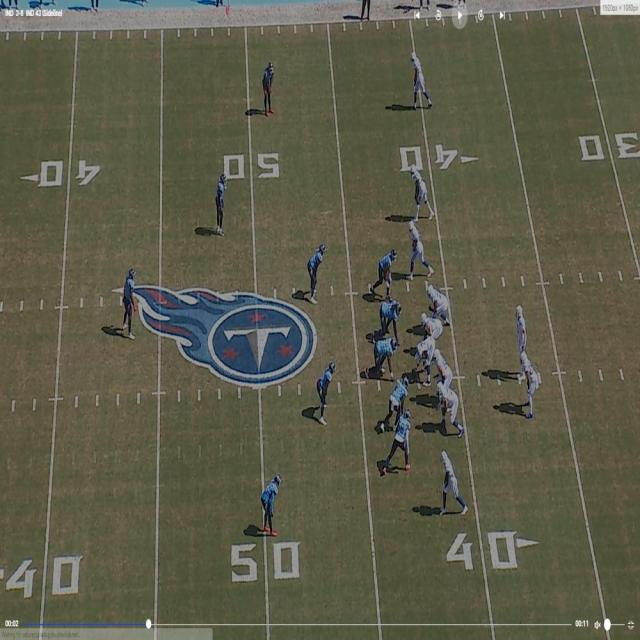center: (412, 343, 428, 378)
db: (264, 474, 281, 538), (122, 267, 138, 331), (264, 60, 276, 122), (219, 172, 228, 234)
lb: (395, 404, 412, 461), (321, 362, 336, 419), (309, 244, 323, 301), (380, 250, 396, 291)
qb: (515, 305, 527, 353)
skill: (444, 449, 464, 512), (411, 221, 432, 278), (414, 165, 432, 216), (414, 53, 430, 109), (522, 356, 536, 417)
